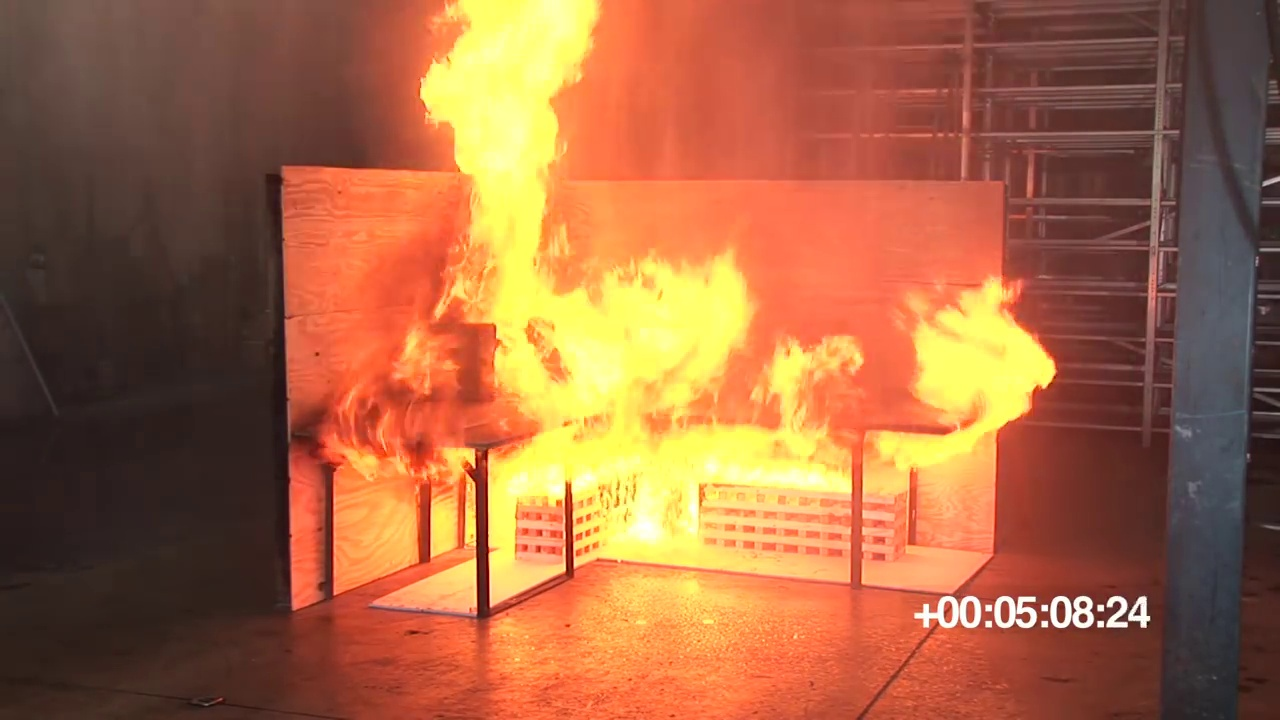fire: (421, 2, 598, 295), (494, 265, 748, 404), (464, 418, 866, 504), (909, 293, 1047, 434), (766, 333, 860, 456), (389, 322, 466, 393)
